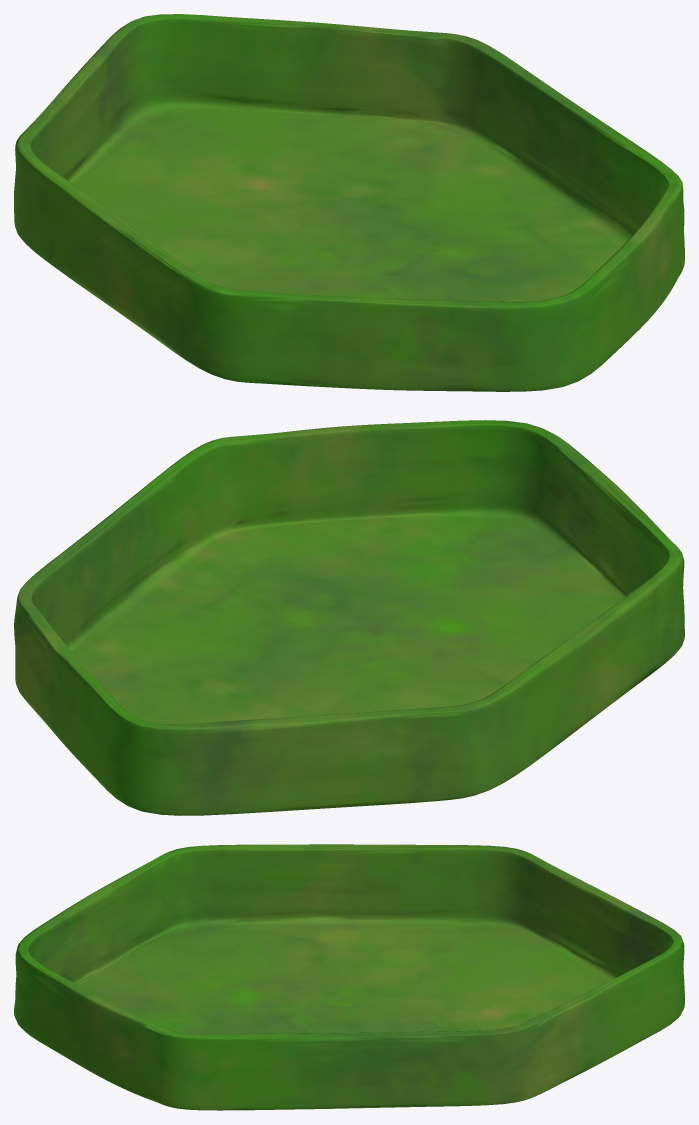
The model's file is cell_wall.glb.
3 views of the same model, one above another, from view 1: azimuth 30°, elevation 25°; view 2: azimuth 150°, elevation 25°; view 3: azimuth 270°, elevation 25° (orthographic). The views are drawn at different scales.
Visible parts, largest first — view 1: cell_wall; view 2: cell_wall; view 3: cell_wall.
Part boxes in pixels (bbox=[...]): cell_wall: bbox=[14, 14, 684, 391]; cell_wall: bbox=[14, 420, 684, 815]; cell_wall: bbox=[14, 844, 684, 1110].
Bounding box in the file's own units: 5.53 × 0.9844 × 7.96.
1 material, 1 textured.
